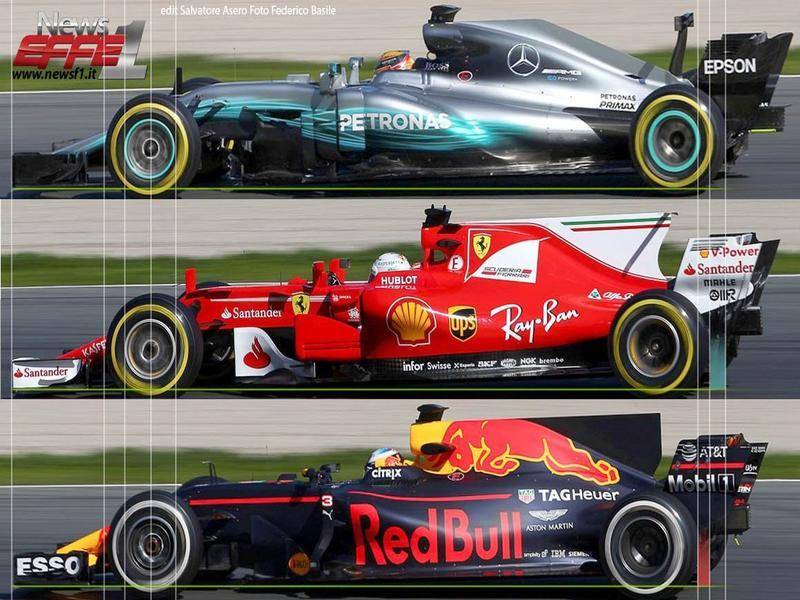f1: (55, 401, 764, 581), (53, 215, 782, 385), (15, 18, 789, 177)
